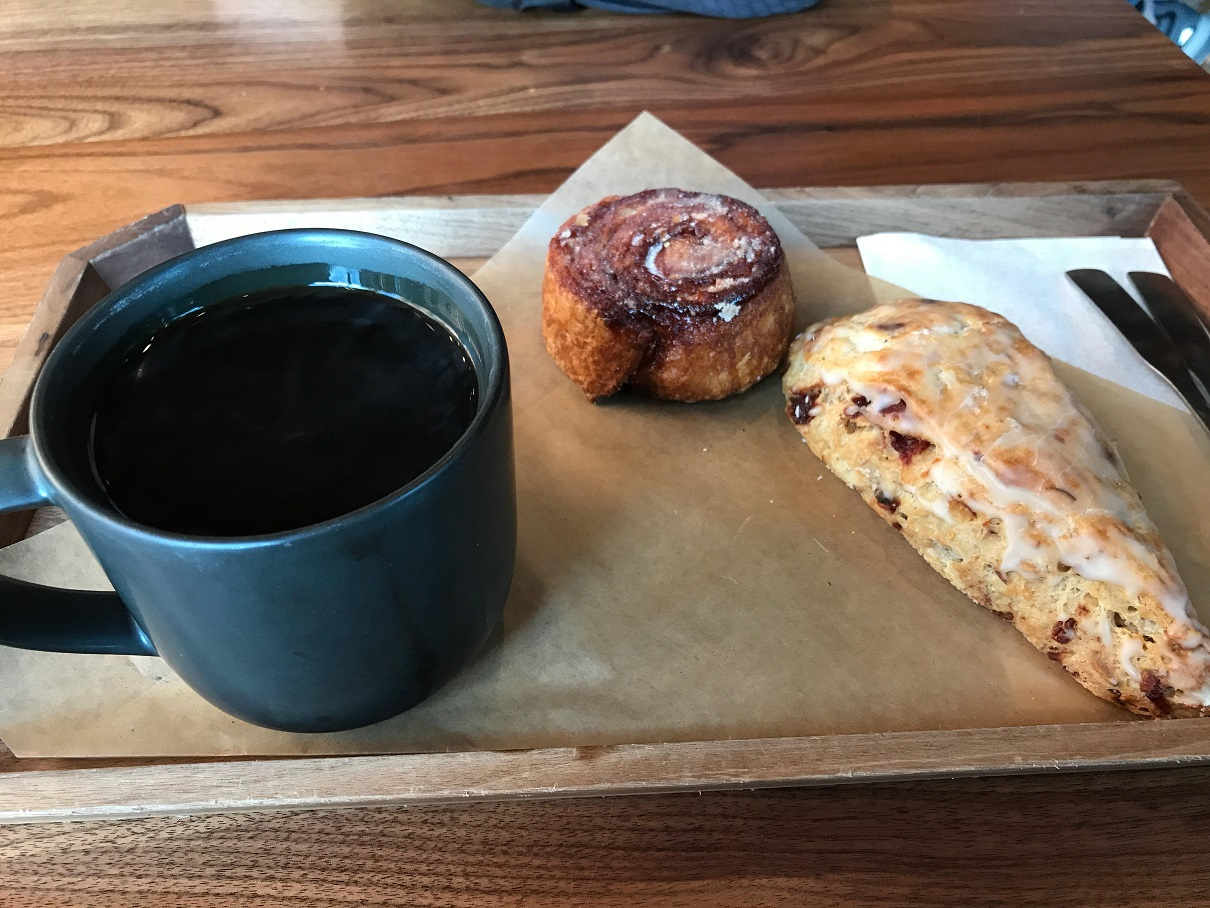cup: (21, 213, 533, 748)
